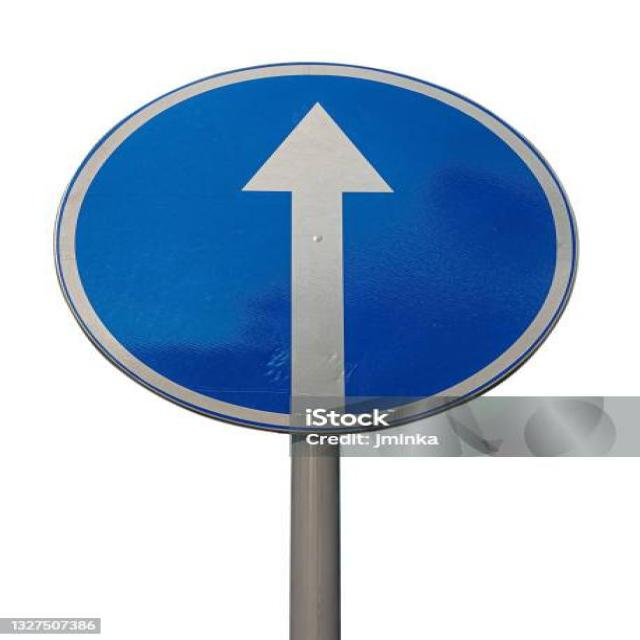STRAIGHT: (56, 63, 577, 639)
